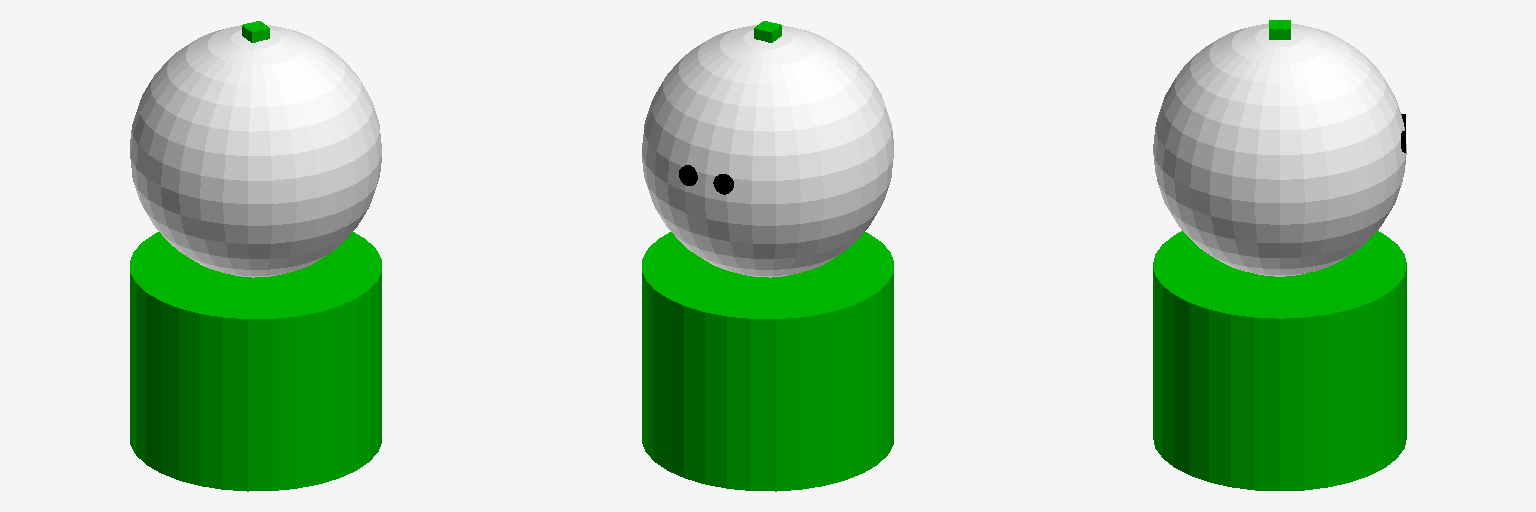
The robot description file, URDF, robot "mi_primer_robot":
<?xml version="1.0"?>
<robot name="mi_primer_robot">


    <material name="green">
        <color rgba="0 0.8 0 1"/>
    </material>

    <material name="grey">
        <color rgba="0.75 0.75 0.75 1"/>
    </material>

    <material name="red">
        <color rgba="0.0 0 0 1"/>
    </material>

    <material name="blue">
        <color rgba="0 0 0.8 1"/>
    </material>

    <material name="white">
        <color rgba="1.0 1.0 1.0 1"/>
    </material>

    <material name="black">
        <color rgba="0.0 0.0 0.0 1"/>
    </material>


    <link name="base_link">
        <visual>
        <origin rpy="0 0 0" xyz="0 0 0"/>
        <geometry>
            <cylinder radius="0.06" length="0.09"/>
        </geometry>
        <material name="green"/>
        </visual>
    </link>

    <link name="head_link">
        <visual>
            <origin rpy="0 0 0" xyz="0 0 0"/>
            <geometry>
                <sphere radius="0.06"/>
            </geometry>
            <material name="white"/>
        </visual>
    </link>

    <joint name="head_roll_joint" type="revolute">
        <parent link="base_link"/>
        <child link="head_link"/>
        <origin xyz="0 0 0.105" rpy="0 0 0"/>
        <limit lower="-0.6" upper="0.6" effort="0.1" velocity="0.005"/>
        <axis xyz="0 0 1"/>
    </joint>



    <link name="left_eye_link">
        <visual>
            <origin rpy="0 0 0" xyz="0 0 0"/>
            <geometry>
                <cylinder radius="0.005" length="0.005"/>
            </geometry>
            <material name="black"/>
        </visual>
    </link>
    
    <joint name="left_eye_joint" type="fixed">
        <parent link="head_link"/>
        <child link="left_eye_link"/>
        <origin xyz="0.0095 0.057 0.0085" rpy="-1.5708 0 0"/>
    </joint>



    <link name="right_eye_link">
        <visual>
            <origin rpy="0 0 0" xyz="0 0 0"/>
            <geometry>
                <cylinder radius="0.005" length="0.005"/>
            </geometry>
            <material name="black"/>
        </visual>
    </link>

    <joint name="right_eye_joint" type="fixed">
        <parent link="head_link"/>
        <child link="right_eye_link"/>
        <origin xyz="-0.0095 0.057 0.0085" rpy="-1.5708 0 0"/>
    </joint>



    <link name="camera_link">
        <visual>
            <origin rpy="0 0 0" xyz="0 0 0"/>
            <geometry>
                <box size="0.01 0.01 0.01"/>
            </geometry>
            <material name="green"/>
        </visual>
    </link>

    <joint name="camera_joint" type="fixed">
        <parent link="head_link"/>
        <child link="camera_link"/>
        <origin xyz="0.0 0.0 0.06" rpy="0 0 0"/>
    </joint>

</robot>

--- Facts derived from the render (not from the file) ---
The picture shows the robot from 3 angles, left to right: view 1: azimuth 30°, elevation 25°; view 2: azimuth 150°, elevation 25°; view 3: azimuth 270°, elevation 25°; orthographic projection.
Model mi_primer_robot with 5 links and 4 joints (1 revolute, 3 fixed), rooted at base_link, posed every joint at zero.
Links seen in each view (by area): view 1: base_link, head_link; view 2: base_link, head_link; view 3: base_link, head_link.
Boxes of the visible links, x1,y1,x2,y2 form: base_link: (130, 232, 381, 491); head_link: (130, 25, 381, 277); base_link: (642, 232, 893, 491); head_link: (642, 25, 893, 277); base_link: (1153, 231, 1406, 490); head_link: (1153, 23, 1406, 276).
Bounding box of the posed robot: 0.12 × 0.12 × 0.215 m (x, y, z).
Geometry: primitives only (box / cylinder / sphere), no mesh files.